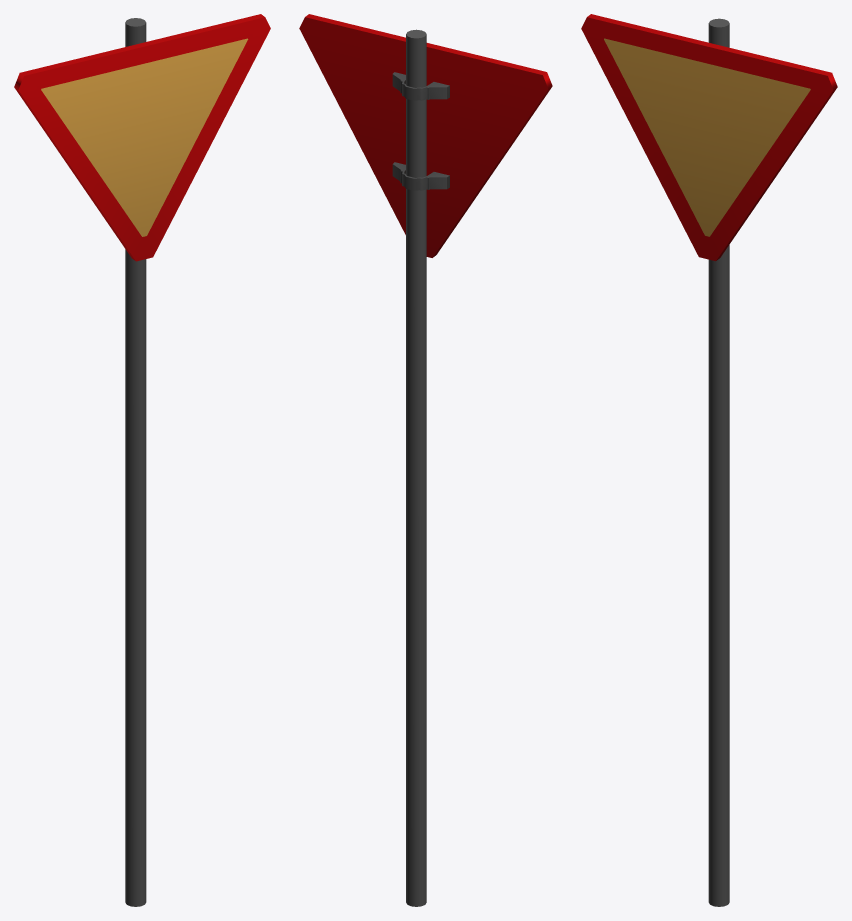
File: TriTrafficSign_Regular.fbx
3 views of the same model, side by side, from view 1: azimuth 30°, elevation 25°; view 2: azimuth 150°, elevation 25°; view 3: azimuth 330°, elevation 25° (orthographic).
Visible parts, largest first — view 1: TriTrafficSign_Regular; view 2: TriTrafficSign_Regular; view 3: TriTrafficSign_Regular.
Boxes of the visible parts, left/top/right/bottom form: TriTrafficSign_Regular: left=14, top=14, right=270, bottom=906; TriTrafficSign_Regular: left=299, top=14, right=552, bottom=906; TriTrafficSign_Regular: left=581, top=14, right=837, bottom=906.
Size of the model in its own units: 76 by 253 by 8.73.
